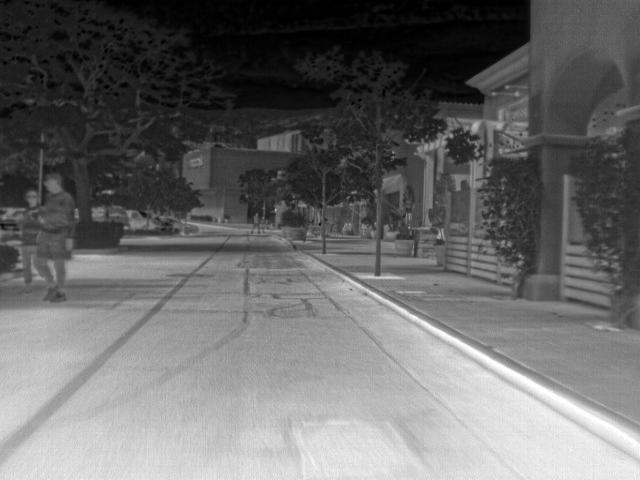car: (1, 209, 20, 242), (171, 218, 200, 237), (130, 208, 147, 233), (110, 204, 129, 224), (153, 214, 171, 230), (93, 206, 110, 222)
person: (41, 170, 78, 302), (19, 188, 42, 294), (249, 211, 261, 235), (258, 214, 267, 233)
